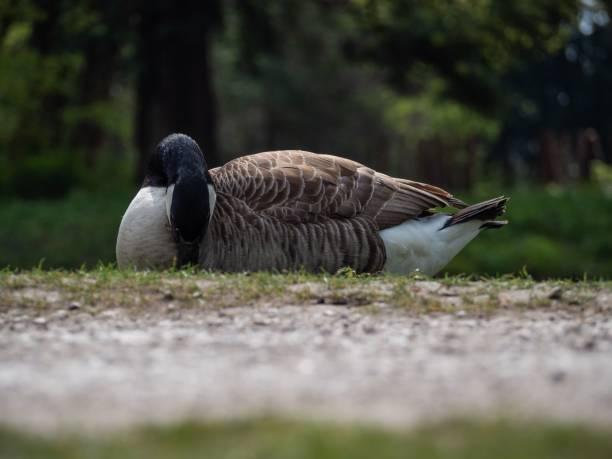Canadian-Goose: (114, 132, 506, 278)
